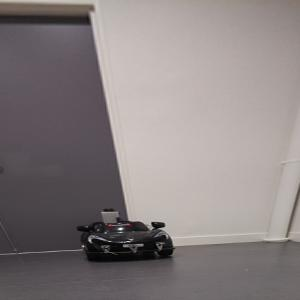big: (77, 219, 177, 264)
